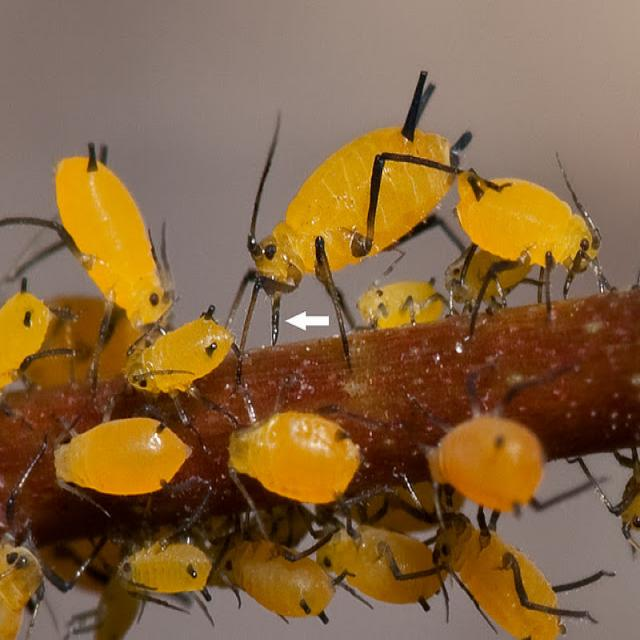Aphid-Grouped-: (2, 71, 636, 632)
Aphid-Grown-: (210, 34, 468, 341), (29, 129, 195, 340), (200, 386, 379, 533), (452, 146, 613, 305), (438, 512, 600, 637), (419, 404, 570, 530), (36, 396, 192, 514), (304, 496, 460, 611), (196, 515, 346, 633), (92, 285, 247, 396)
